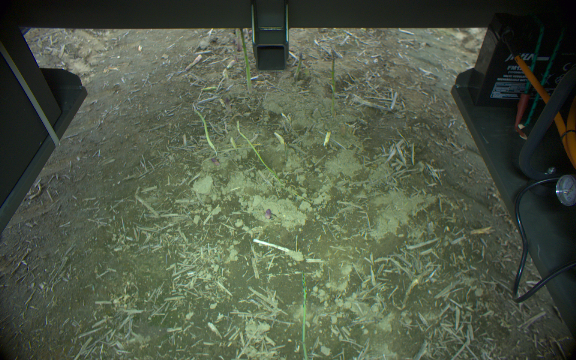aspa: (235, 119, 312, 204), (190, 105, 216, 157), (297, 270, 312, 360), (238, 27, 252, 92), (327, 48, 339, 115), (293, 51, 303, 78), (261, 205, 272, 221)
